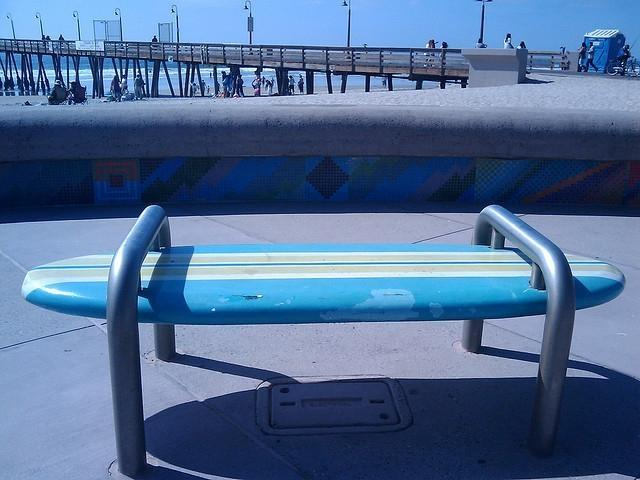bicycle: (606, 56, 640, 78)
